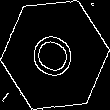O_SE: (25, 24, 85, 86)
